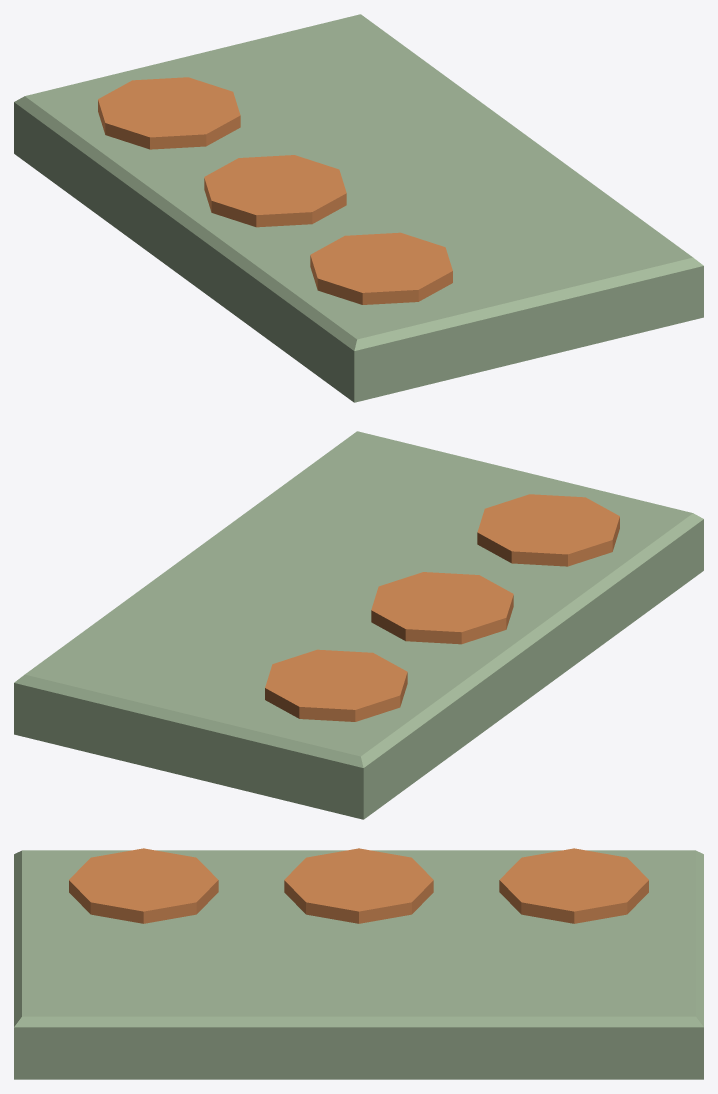
The model's file is WorkStation.fbx.
3 renders of one model, top to bottom at view 1: azimuth 30°, elevation 25°; view 2: azimuth 150°, elevation 25°; view 3: azimuth 270°, elevation 25°, orthographic.
Visible parts, largest first — view 1: Stand, RobotPlaceLeft, RobotPlaceMiddle, RobotPlaceRight; view 2: Stand, RobotPlaceRight, RobotPlaceMiddle, RobotPlaceLeft; view 3: Stand, RobotPlaceLeft, RobotPlaceRight, RobotPlaceMiddle.
Part boxes in pixels (box(x1,y1,x2,y2)): Stand: box(14, 14, 703, 402); RobotPlaceLeft: box(310, 232, 452, 304); RobotPlaceMiddle: box(204, 155, 346, 227); RobotPlaceRight: box(98, 77, 240, 149); Stand: box(14, 431, 703, 819); RobotPlaceRight: box(265, 649, 407, 721); RobotPlaceMiddle: box(371, 572, 513, 644); RobotPlaceLeft: box(477, 494, 619, 566); Stand: box(14, 850, 703, 1079); RobotPlaceLeft: box(69, 848, 218, 923); RobotPlaceRight: box(499, 848, 648, 923); RobotPlaceMiddle: box(284, 848, 433, 923).
Bounding box in the file's own units: 146 × 28.24 × 246.
